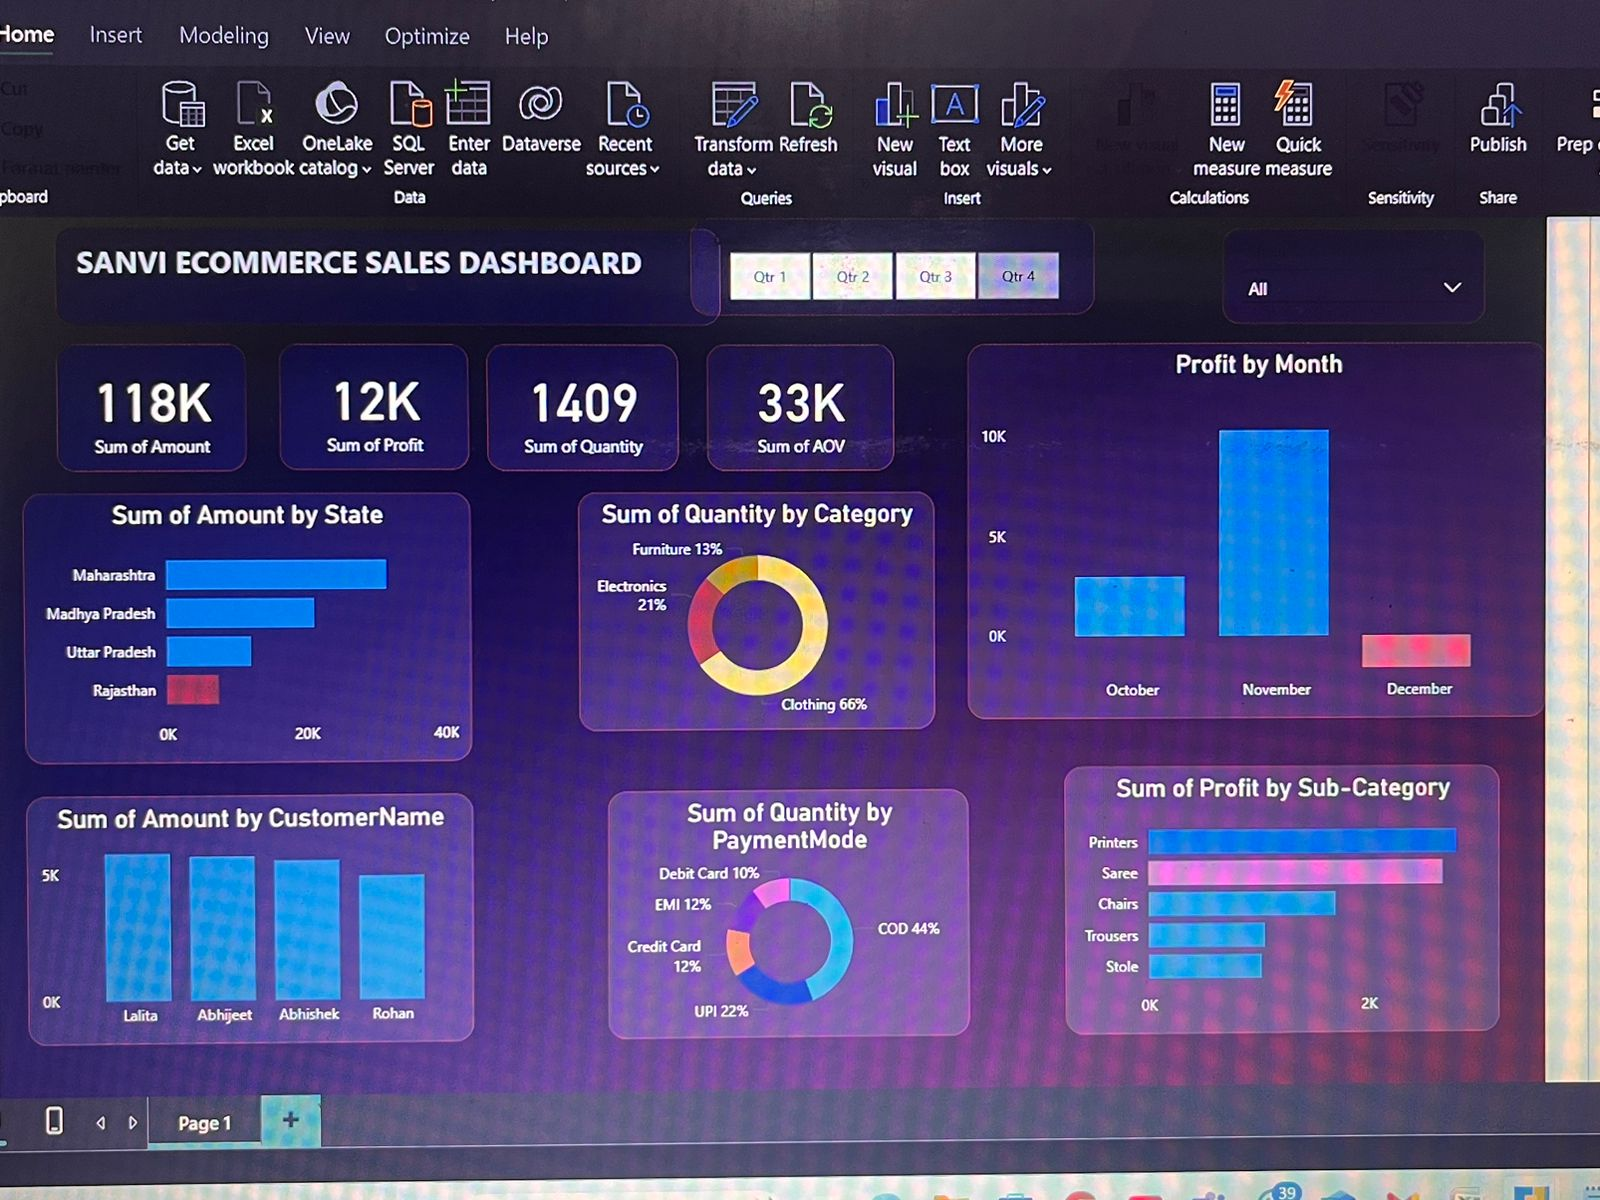

Layout of this report page (visuals, bound fields, positions):
{"tool":"powerbi","page":{"name":"E-commerce sales dashboard","canvas":[1280,720],"ordinal":0},"visuals":[{"type":"textbox","box":[11,8.6,547.2,71.2],"z":0},{"type":"columnChart","title":"Profit by Month","fields":{"Y":["Details.Profit"],"Category":["Orders.Order Date.Variation.Date Hierarchy.Month"]},"box":[798.8,119,481,311.7],"z":1000},{"type":"barChart","fields":{"Category":["Details.Sub-Category"],"Y":["Details.Profit"]},"box":[878.5,454,363.2,222.1],"z":2000},{"type":"donutChart","fields":{"Category":["Details.Category"],"Y":["Details.Quantity"]},"box":[476.2,225,295,197.6],"z":3000},{"type":"donutChart","fields":{"Y":["Details.Quantity"],"Category":["Details.PaymentMode"]},"box":[471.2,472.4,299.4,203.7],"z":4000},{"type":"card","fields":{"Values":["Details.Amount"]},"box":[53.5,102.9,153.7,104.3],"z":5000},{"type":"card","fields":{"Values":["Details.Profit"]},"box":[234.6,102.9,153.7,102.9],"z":6000},{"type":"card","fields":{"Values":["Details.Quantity"]},"box":[402.1,102.9,156.4,104.3],"z":7000},{"type":"card","fields":{"Values":["Details.AOV"]},"box":[583.2,102.9,155.1,104.3],"z":8000},{"type":"barChart","fields":{"Category":["Orders.State"],"Y":["Details.Amount"]},"box":[26.1,225,362.3,220.9],"z":9000},{"type":"columnChart","fields":{"Category":["Orders.CustomerName"],"Y":["Details.Amount"]},"box":[26,472,363,204],"z":10000},{"type":"slicer","fields":{"Values":["Orders.State"]},"box":[916.6,14.7,216,65],"z":11000},{"type":"slicer","fields":{"Values":["Orders.Order Date.Variation.Date Hierarchy.Quarter"]},"box":[564.4,9.8,314.1,69.9],"z":12000},{"type":"pageNavigator","box":[1171.8,14.7,82.2,57.7],"z":13000}]}

Visuals, with their boxes on the page's 1280x720 design canvas (x1, y1, x2, y2). These are canvas units, not pixel positions in the 1600x1200 screenshot, which may show the page scaled, cropped or inside an application window:
textbox: 11,9,558,80
"Profit by Month" columnChart: 799,119,1280,431
barChart - Details.Sub-Category x Details.Profit: 878,454,1242,676
donutChart - Details.Category x Details.Quantity: 476,225,771,423
donutChart - Details.Quantity x Details.PaymentMode: 471,472,771,676
card - Details.Amount: 54,103,207,207
card - Details.Profit: 235,103,388,206
card - Details.Quantity: 402,103,558,207
card - Details.AOV: 583,103,738,207
barChart - Orders.State x Details.Amount: 26,225,388,446
columnChart - Orders.CustomerName x Details.Amount: 26,472,389,676
slicer - Orders.State: 917,15,1133,80
slicer - Orders.Order Date.Variation.Date Hierarchy.Quarter: 564,10,878,80
pageNavigator: 1172,15,1254,72
